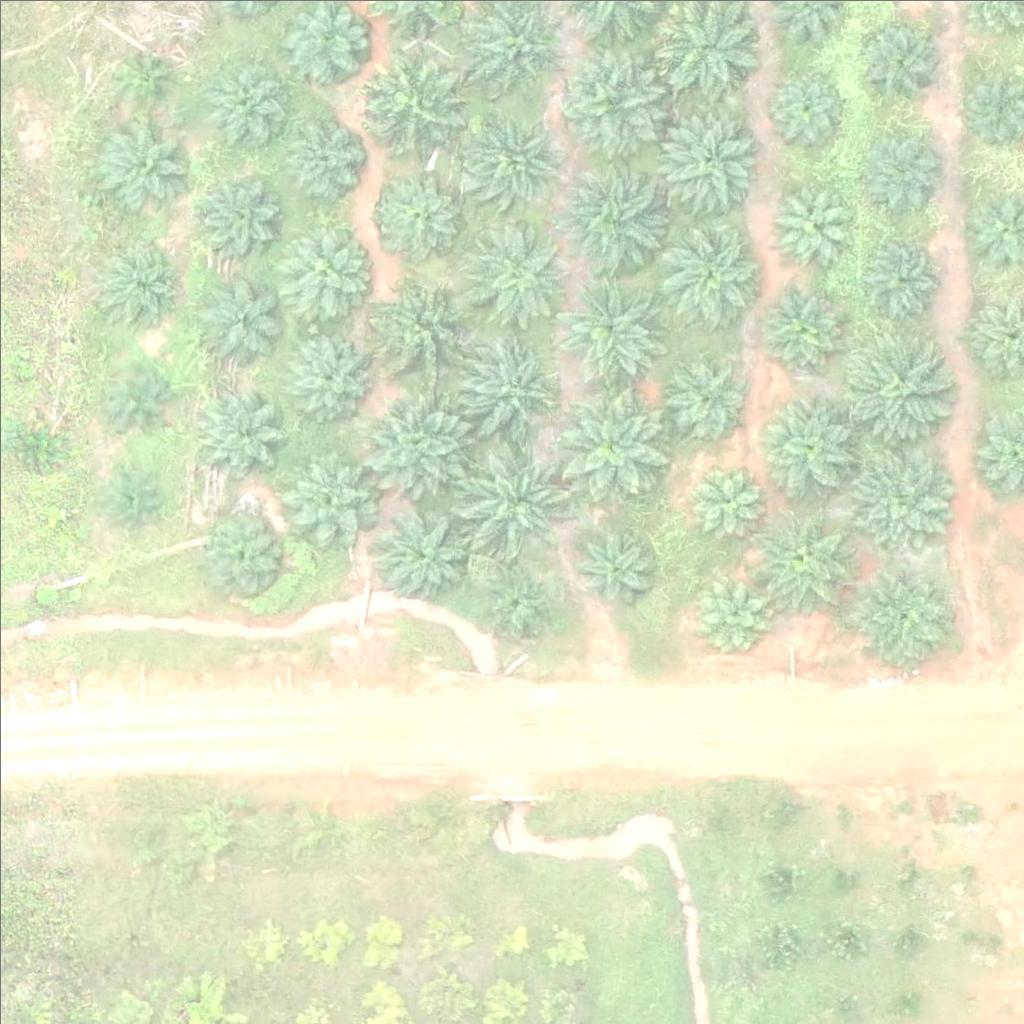Kelapa_Sawit: (442, 443, 567, 568), (839, 437, 952, 551), (833, 330, 946, 444), (552, 391, 665, 504), (547, 272, 660, 385), (553, 163, 666, 276), (554, 44, 666, 158), (851, 563, 951, 664), (753, 512, 853, 613), (452, 337, 552, 438), (462, 222, 562, 323), (462, 101, 562, 202), (364, 391, 464, 492), (372, 275, 472, 376), (358, 52, 458, 153), (753, 393, 853, 493), (656, 226, 756, 326), (653, 112, 753, 212), (278, 225, 366, 314), (375, 506, 463, 594), (374, 171, 462, 259), (278, 114, 366, 202), (95, 239, 183, 327), (569, 519, 656, 608), (681, 567, 768, 655), (758, 61, 845, 149), (849, 16, 936, 104), (285, 452, 372, 540), (283, 327, 370, 415), (195, 385, 282, 473), (197, 272, 284, 360), (197, 170, 284, 258), (203, 52, 290, 140), (96, 120, 183, 208), (202, 518, 277, 594), (857, 241, 932, 317), (859, 127, 934, 203), (765, 288, 840, 364), (770, 184, 845, 260), (663, 355, 738, 431), (688, 463, 763, 538), (104, 365, 166, 428), (481, 568, 543, 631), (3, 412, 65, 474), (120, 47, 170, 98), (106, 468, 156, 518)
